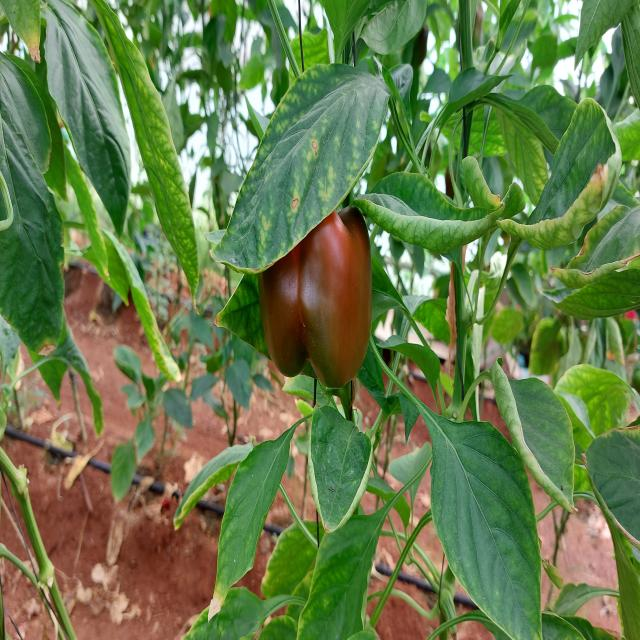BrownishRed--Can-be-Harvested: (249, 187, 374, 396)
